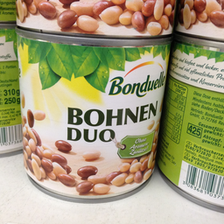beans: (11, 26, 172, 200)
